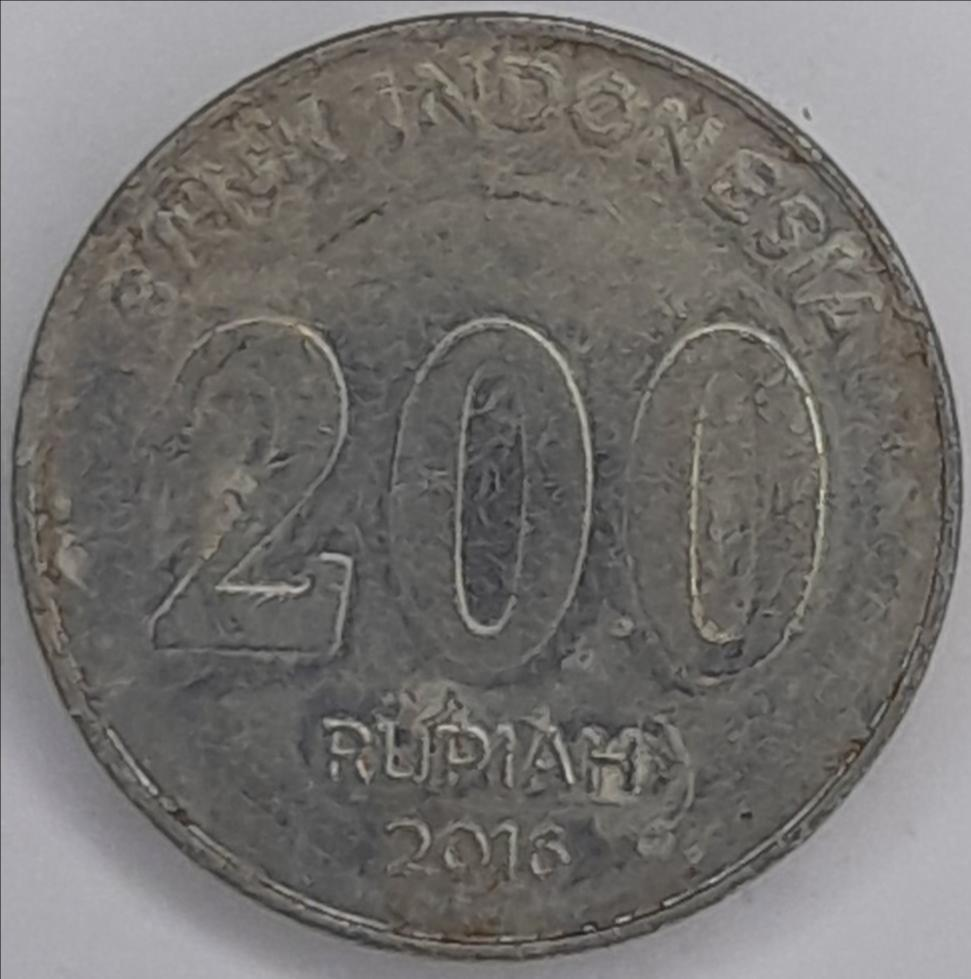coin_200_e2016: (0, 17, 971, 979)
